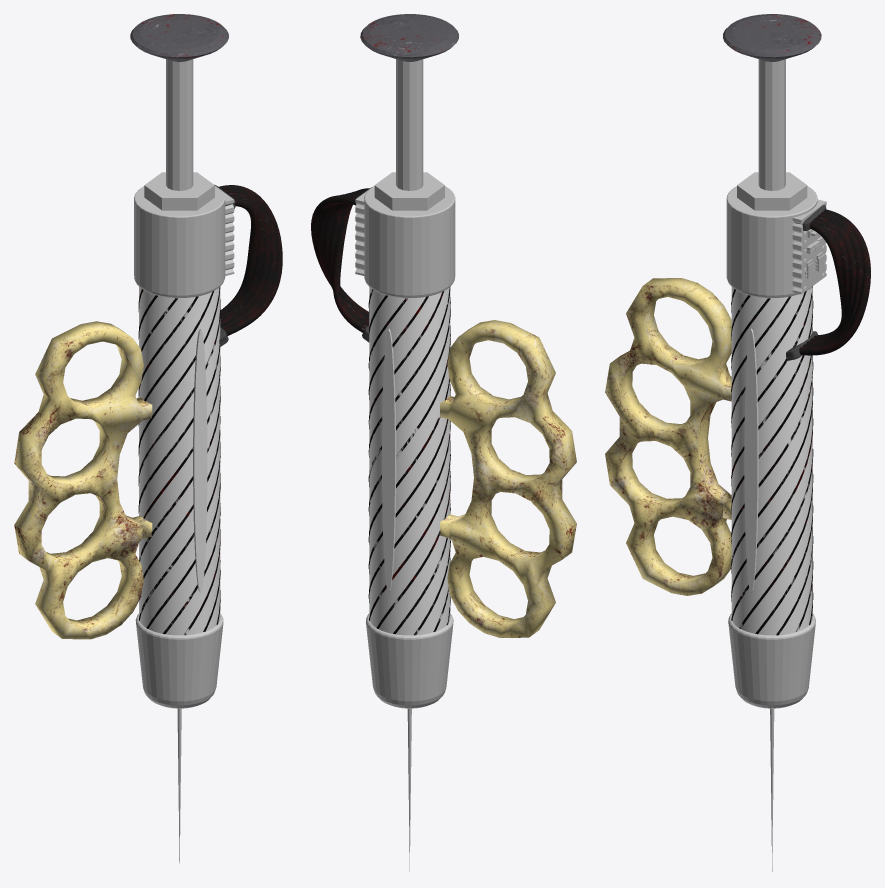
Rendered from FINAL_NEEDLE.fbx.
3 views of the same model, side by side, from view 1: azimuth 30°, elevation 25°; view 2: azimuth 150°, elevation 25°; view 3: azimuth 330°, elevation 25° (orthographic).
Parts seen in each view (by area): view 1: Knuckles, MidBase, TopBase, Bottom Base, Grip, cable, TopArm, TopPunch, View, Bolt, Computer Chip; view 2: Knuckles, MidBase, TopBase, Bottom Base, Grip, cable, TopArm, TopPunch, View, Bolt, Computer Chip; view 3: MidBase, Knuckles, TopBase, Bottom Base, Grip, cable, TopArm, TopPunch, View, Computer Chip, Bolt.
Part boxes in pixels (x1,y1,x2,y2): Knuckles: (14, 321, 152, 639); MidBase: (139, 287, 220, 635); TopBase: (134, 186, 225, 297); Bottom Base: (135, 613, 223, 708); Grip: (138, 287, 220, 635); cable: (218, 185, 282, 335); TopArm: (166, 59, 193, 190); TopPunch: (130, 14, 228, 61); View: (193, 329, 207, 593); Bolt: (144, 172, 214, 210); Computer Chip: (215, 186, 234, 275); Knuckles: (440, 320, 576, 637); MidBase: (369, 287, 450, 635); TopBase: (364, 186, 455, 297); Bottom Base: (366, 613, 453, 708); Grip: (368, 286, 450, 635); cable: (311, 188, 369, 332); TopArm: (396, 59, 423, 190); TopPunch: (360, 14, 458, 61); View: (382, 329, 396, 593); Bolt: (374, 172, 444, 210); Computer Chip: (355, 186, 373, 275); MidBase: (731, 287, 812, 635); Knuckles: (605, 278, 731, 595); TopBase: (726, 186, 817, 297); Bottom Base: (728, 613, 815, 708); Grip: (731, 286, 813, 635); cable: (799, 209, 870, 355); TopArm: (758, 59, 785, 190); TopPunch: (723, 14, 821, 61); View: (744, 329, 758, 593); Computer Chip: (792, 199, 826, 294); Bolt: (737, 172, 807, 210).
Size of the model in its own units: 499 by 1543 by 164.
